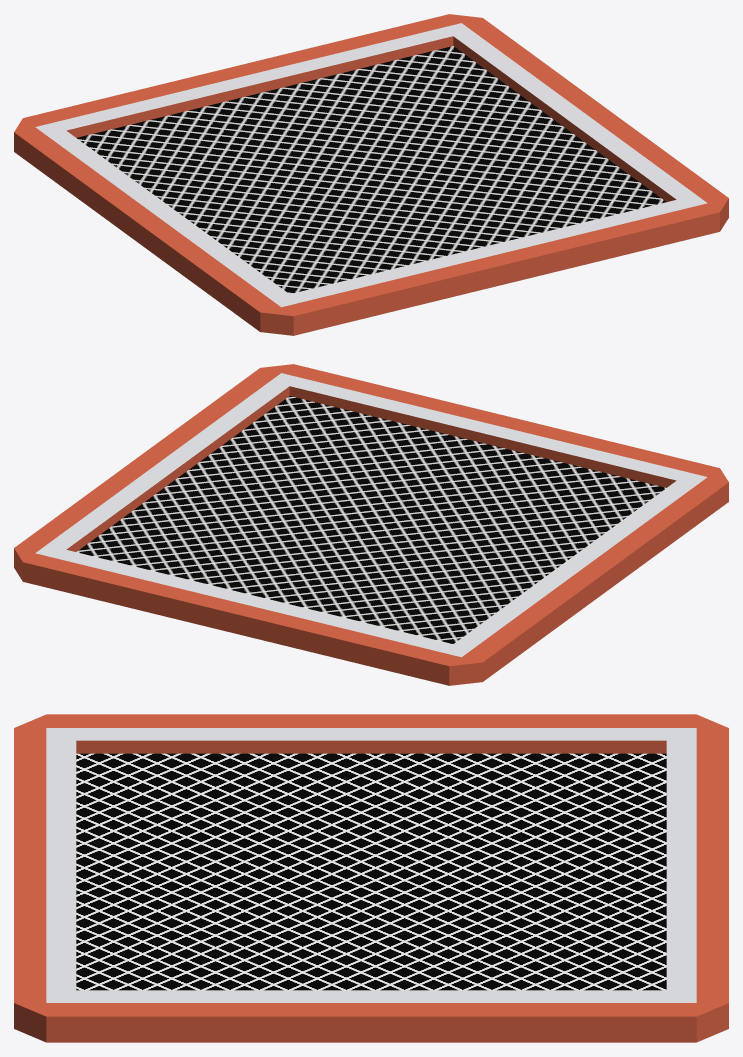
File: metalTileLarge.glb
The picture shows the model from 3 angles, top to bottom: view 1: azimuth 30°, elevation 25°; view 2: azimuth 150°, elevation 25°; view 3: azimuth 270°, elevation 25°; orthographic projection. The views are drawn at different scales.
Visible parts, largest first — view 1: metalTileLarge; view 2: metalTileLarge; view 3: metalTileLarge.
Boxes of the visible parts, x1=… form: metalTileLarge: x1=14, y1=14, x2=728, y2=335; metalTileLarge: x1=14, y1=364, x2=728, y2=685; metalTileLarge: x1=14, y1=714, x2=728, y2=1042.
Size of the model in its own units: 20 by 0.8 by 20.
Materials: 3 (1 with a texture image).
